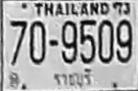0: (29, 20, 45, 64), (97, 19, 113, 62)
5: (79, 19, 95, 63)
7: (9, 20, 26, 64)
9: (115, 19, 132, 62), (61, 20, 77, 63)
RBR: (50, 68, 93, 89)
